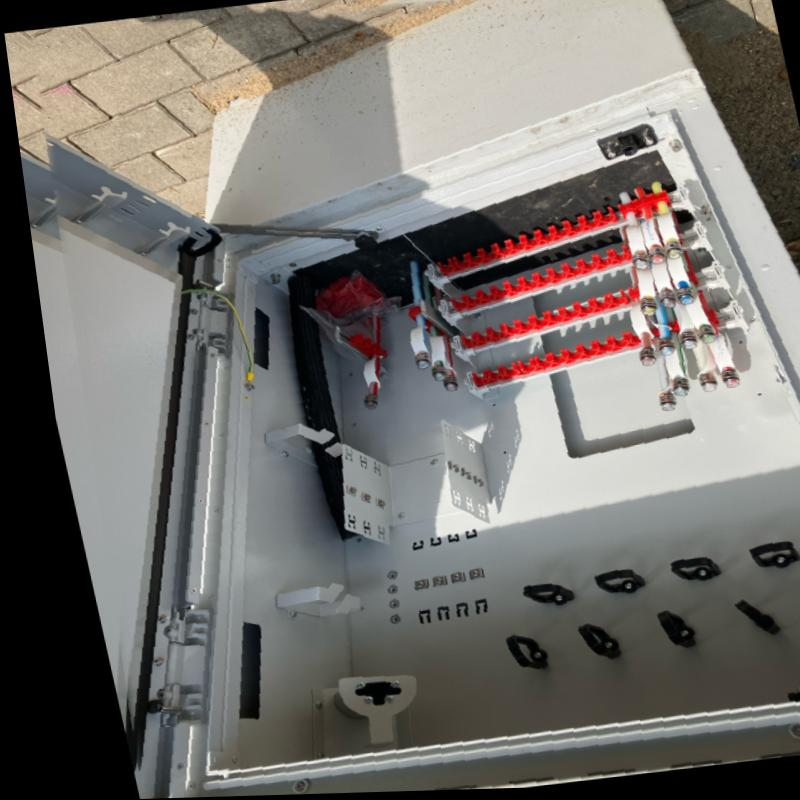NT-Gehause: (30, 0, 800, 799)
